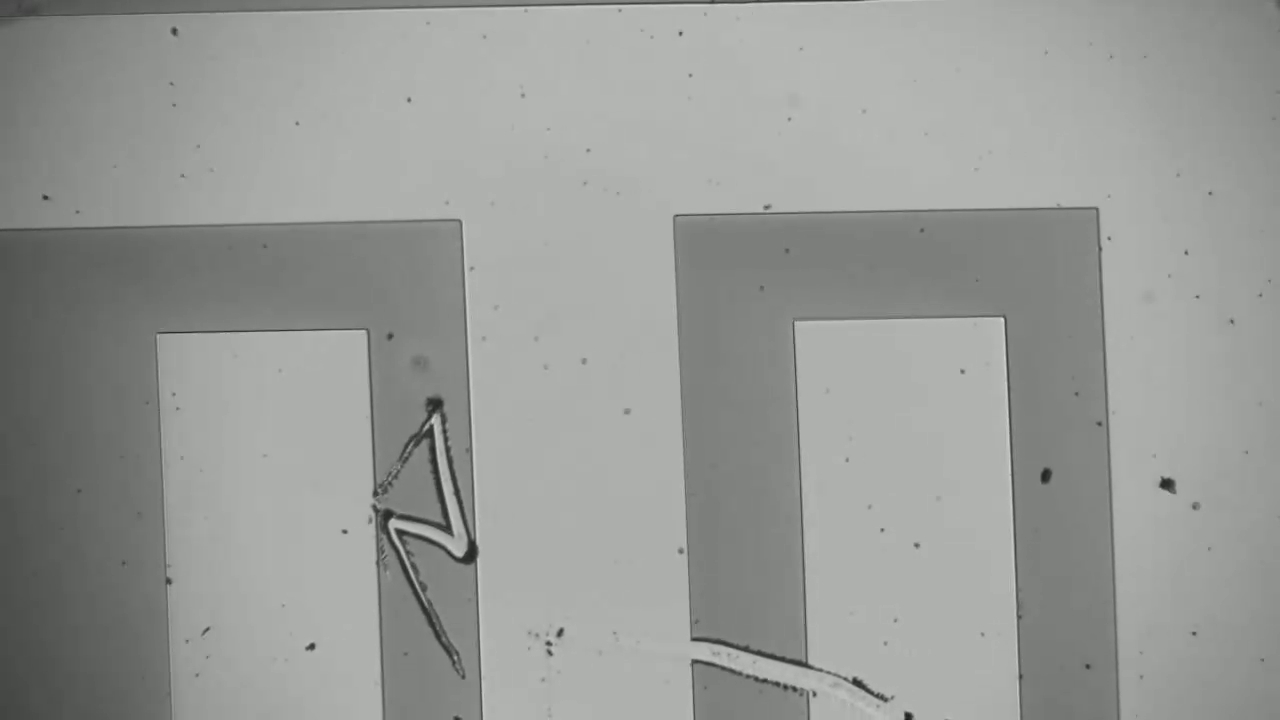Short_circuit: (662, 608, 846, 712), (344, 501, 515, 579)
